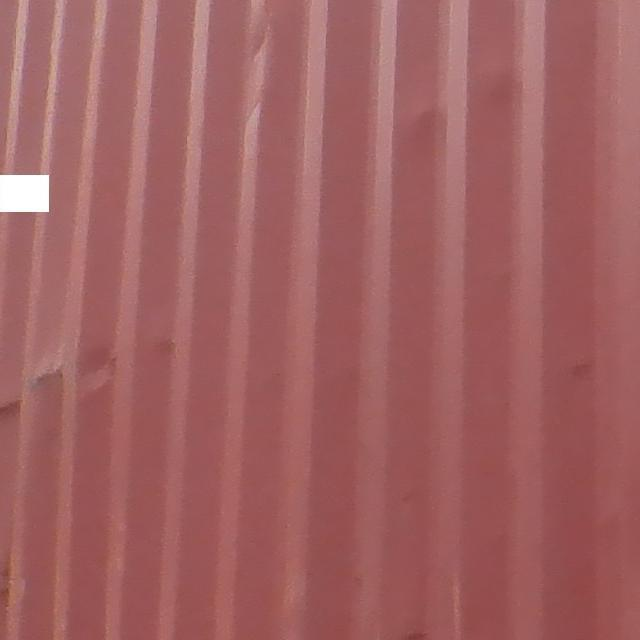dent: (2, 340, 125, 421), (230, 27, 300, 120)
